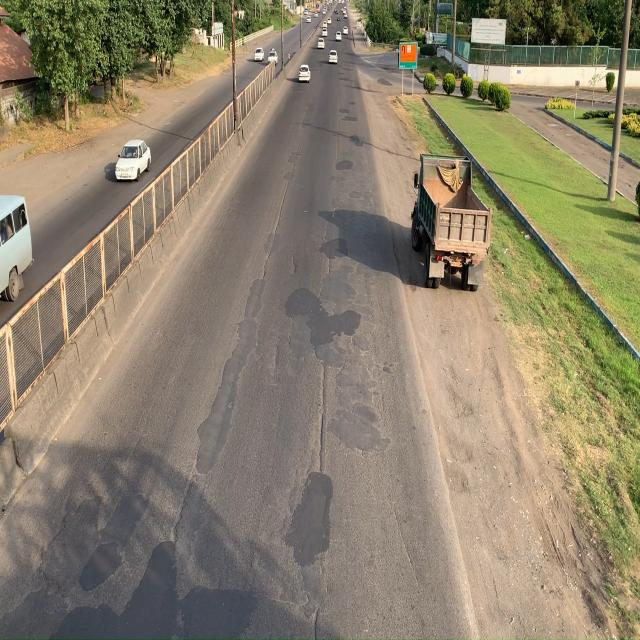Truck: (411, 150, 494, 290)
cars: (114, 140, 150, 180)
